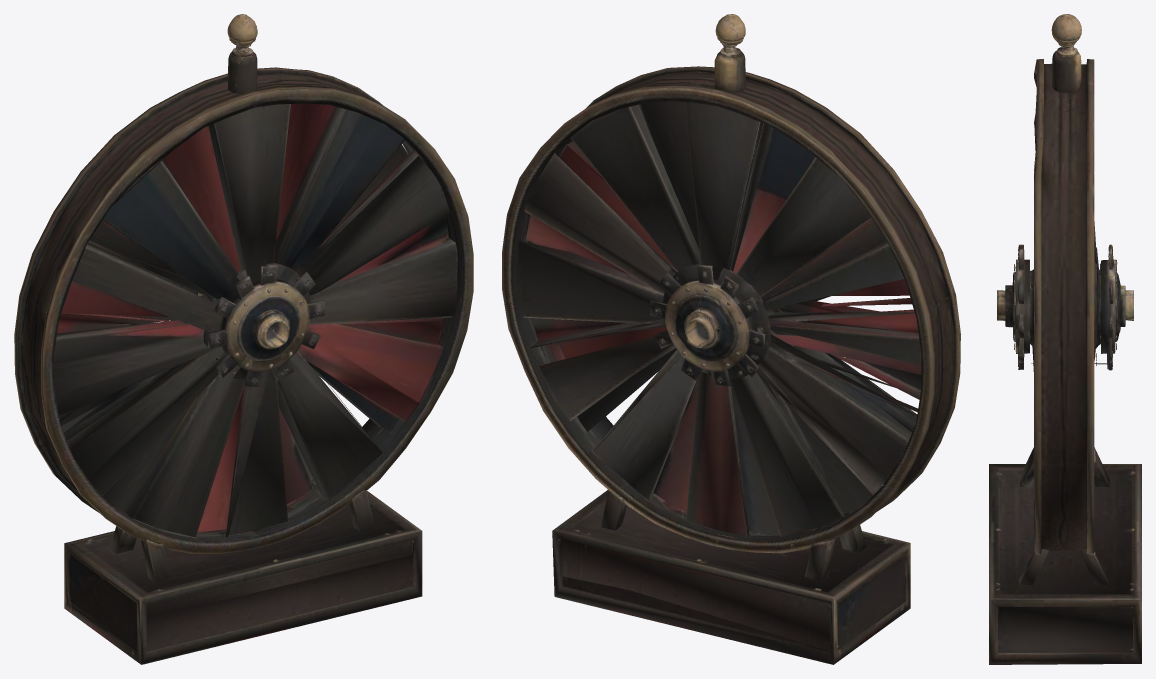
File: wheel.glb
3 renders of one model, left to right at view 1: azimuth 30°, elevation 25°; view 2: azimuth 150°, elevation 25°; view 3: azimuth 270°, elevation 25°, orthographic.
Visible parts, largest first — view 1: midway-fit; view 2: midway-fit; view 3: midway-fit.
Part boxes in pixels (x1=…): midway-fit: x1=14, y1=14, x2=473, y2=664; midway-fit: x1=502, y1=14, x2=960, y2=664; midway-fit: x1=989, y1=14, x2=1141, y2=664.
Bounding box in the file's own units: 0.7657 × 1 × 0.2379.
1 material, 1 textured.
